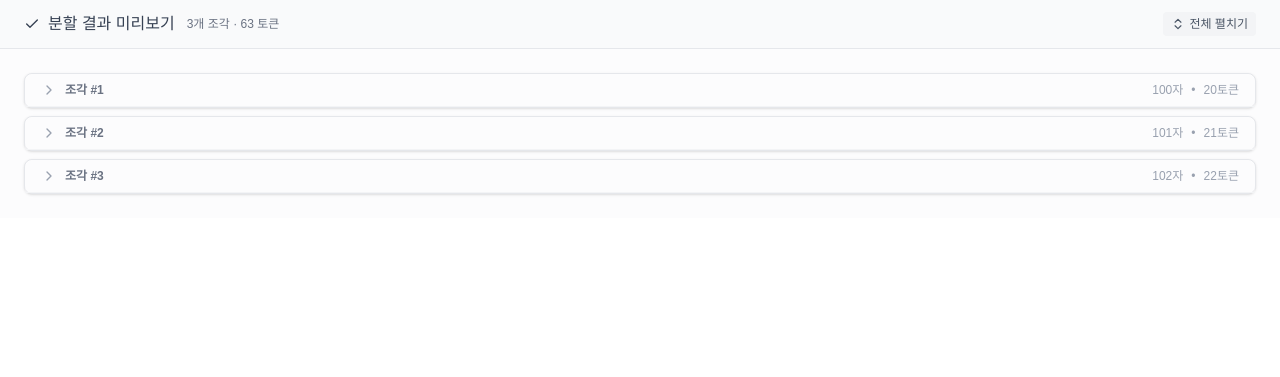
ChunkPreviewList › Collapsible 기능 › 전체 접기 버튼 클릭 시 모든 조각이 접힌다
This screenshot has width=1280, height=377.
먼저 전체 펼치기
Click the button "전체 펼치기": (1210, 24) [1164, 12, 1256, 36]
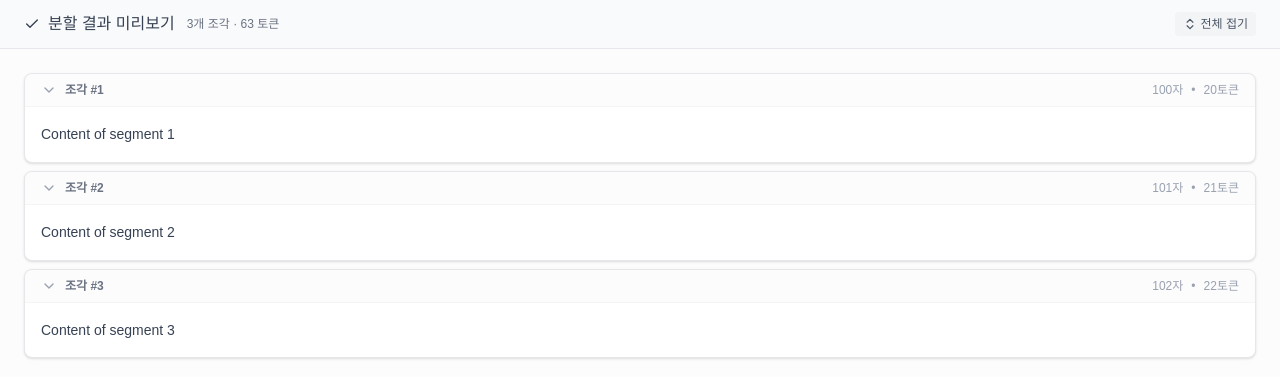
전체 접기 클릭
Click the button "전체 접기": (1215, 24) [1174, 12, 1256, 36]
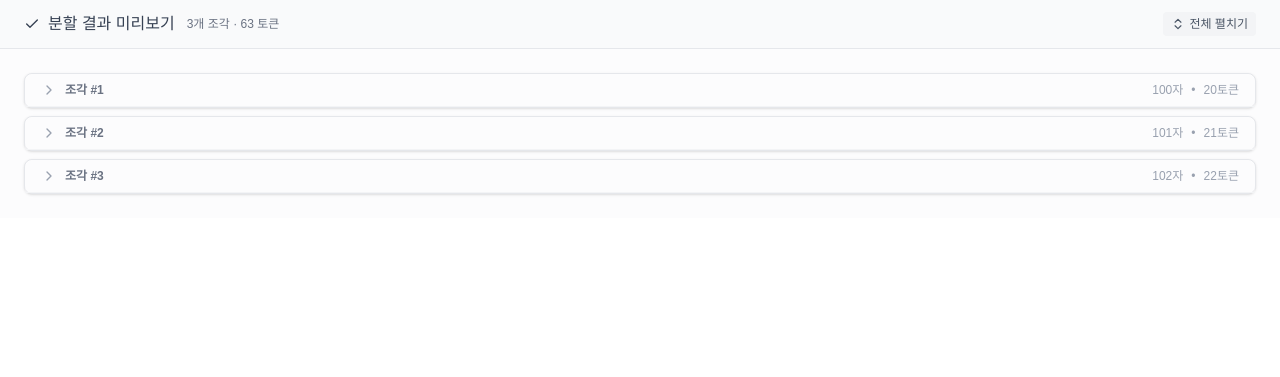
Result: the text "Content of segment 1" is gone
Result: the text "Content of segment 2" is gone
Result: the text "Content of segment 3" is gone
